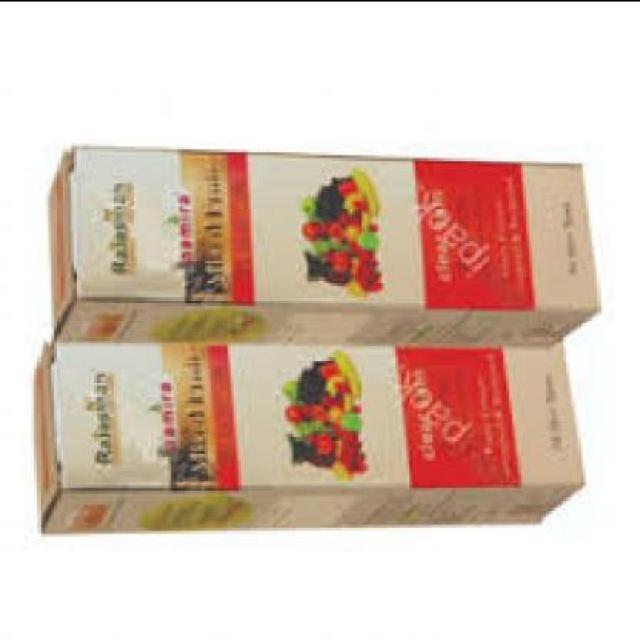CARDBOARD: (48, 144, 598, 342), (29, 340, 580, 534)
